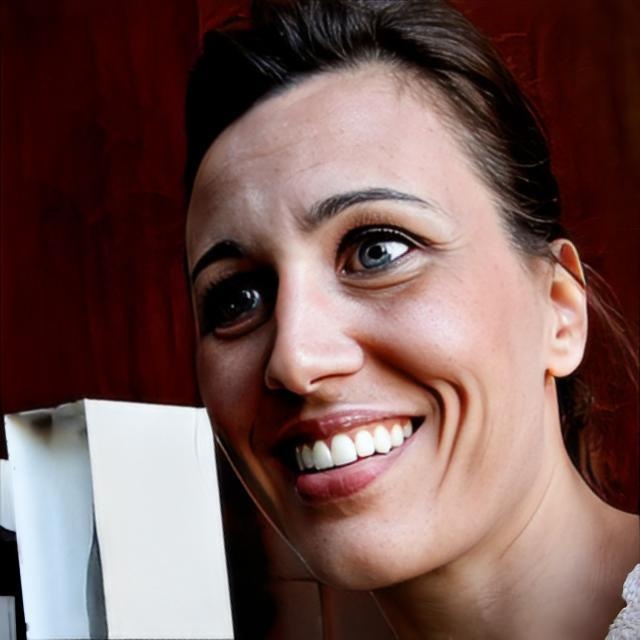happy: (190, 47, 545, 584)
